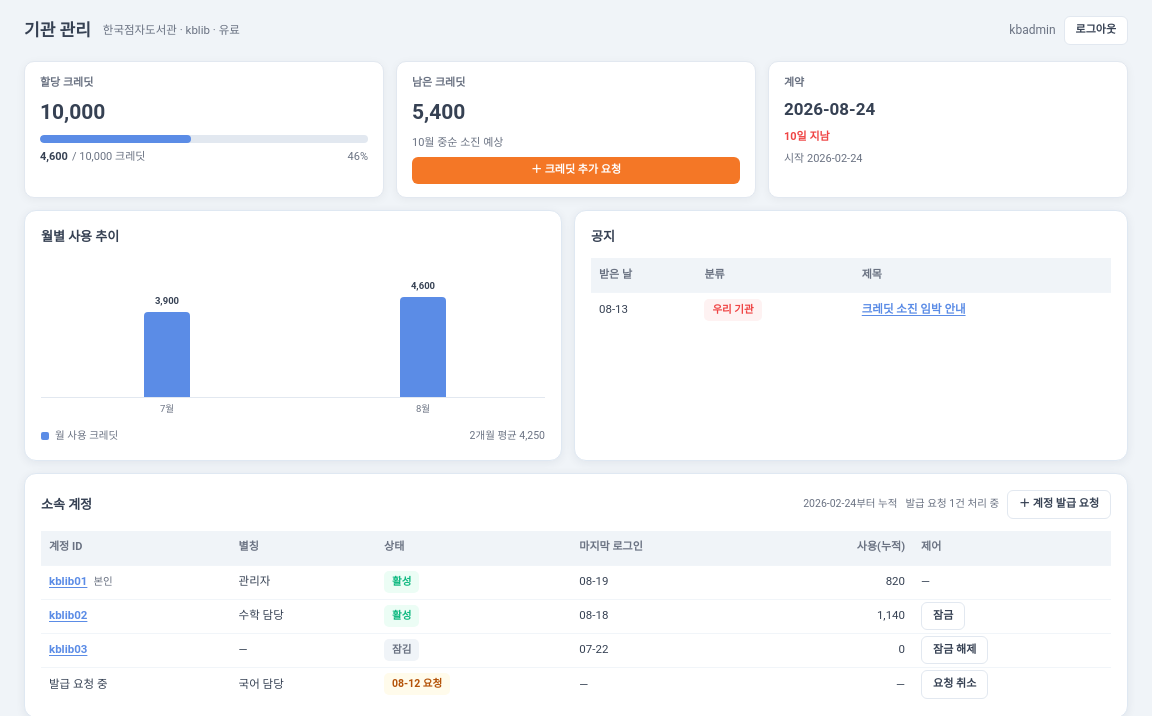
Scenario: 기관 관리 (V3-06 T2) › 처리 중인 계정 발급 요청은 소속 계정 표에 줄로 붙고 취소할 수 있다
Expected: the text "발급 요청 1건 처리 중" is shown, [905,496,999,512]
Expected: the text "국어 담당" is shown, [231,667,376,701]
Step 1. Click the button "요청 취소" → click(955, 684), box [921,670,988,698]
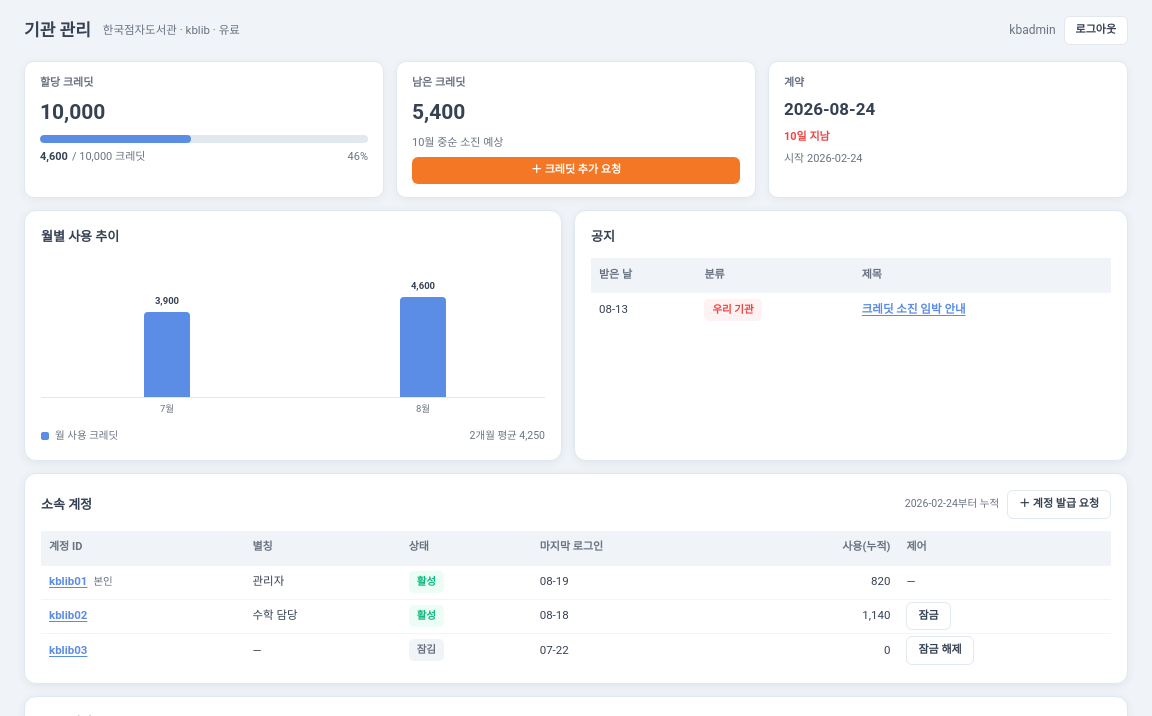
Now the text "발급 요청 중" is gone
